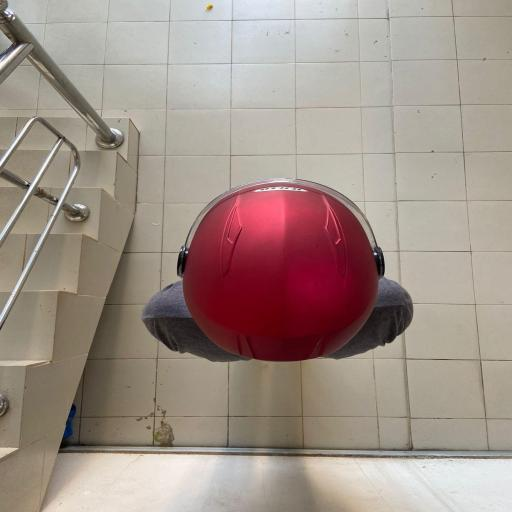with helmet: (178, 178, 386, 364)
